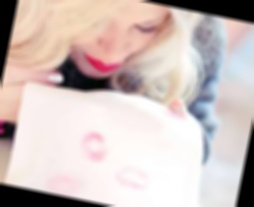lipstick: (74, 127, 114, 166), (112, 162, 154, 193), (45, 170, 81, 199)
